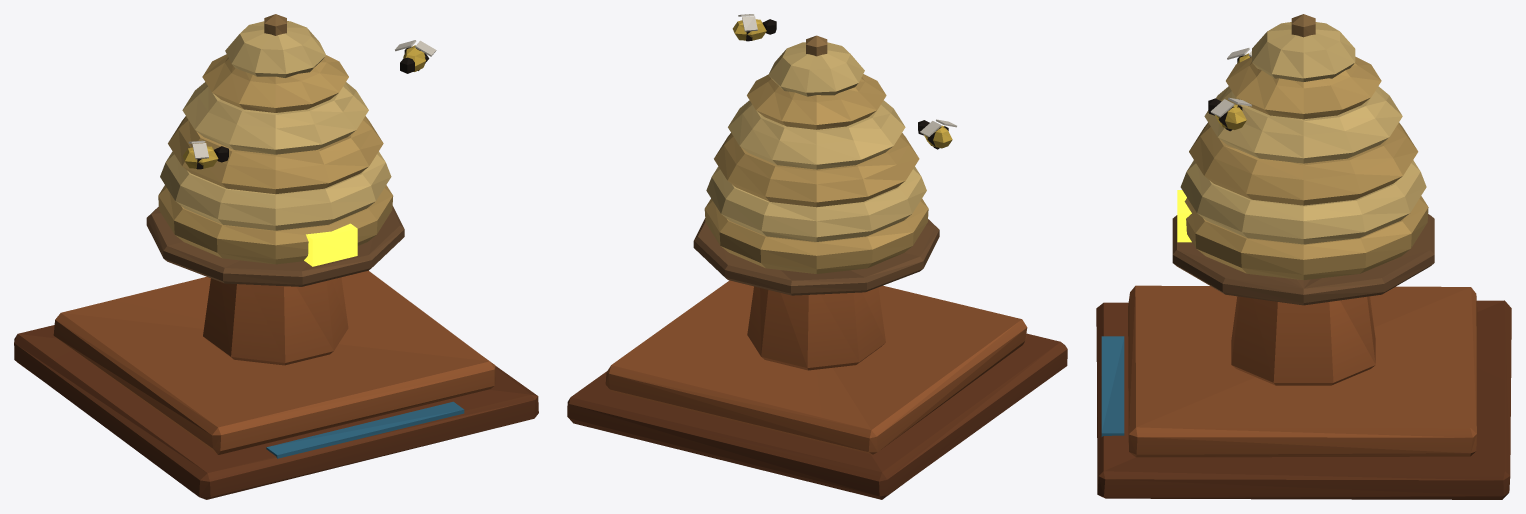
Rendered from hive_hum.glb.
3 views of the same model, side by side, from view 1: azimuth 30°, elevation 25°; view 2: azimuth 150°, elevation 25°; view 3: azimuth 270°, elevation 25° (orthographic). The views are drawn at different scales.
Parts seen in each view (by area): view 1: hive_hum; view 2: hive_hum; view 3: hive_hum.
Boxes of the visible parts, bbox=[...] form: hive_hum: bbox=[14, 14, 538, 499]; hive_hum: bbox=[567, 14, 1067, 499]; hive_hum: bbox=[1096, 14, 1511, 499].
Bounding box in the file's own units: 0.9064 × 0.966 × 0.9047.
